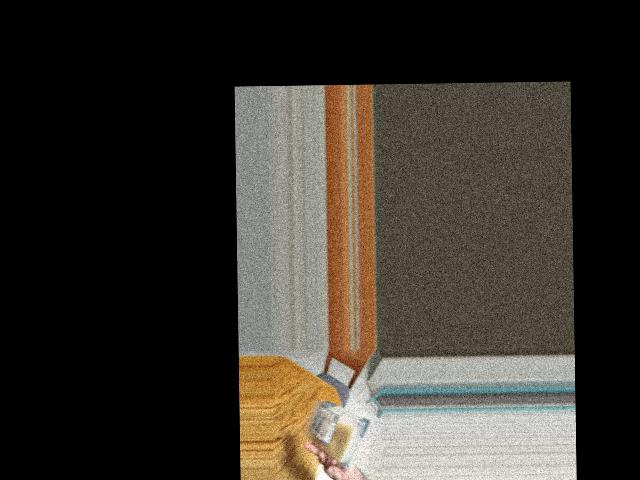cheese: (308, 402, 359, 463)
